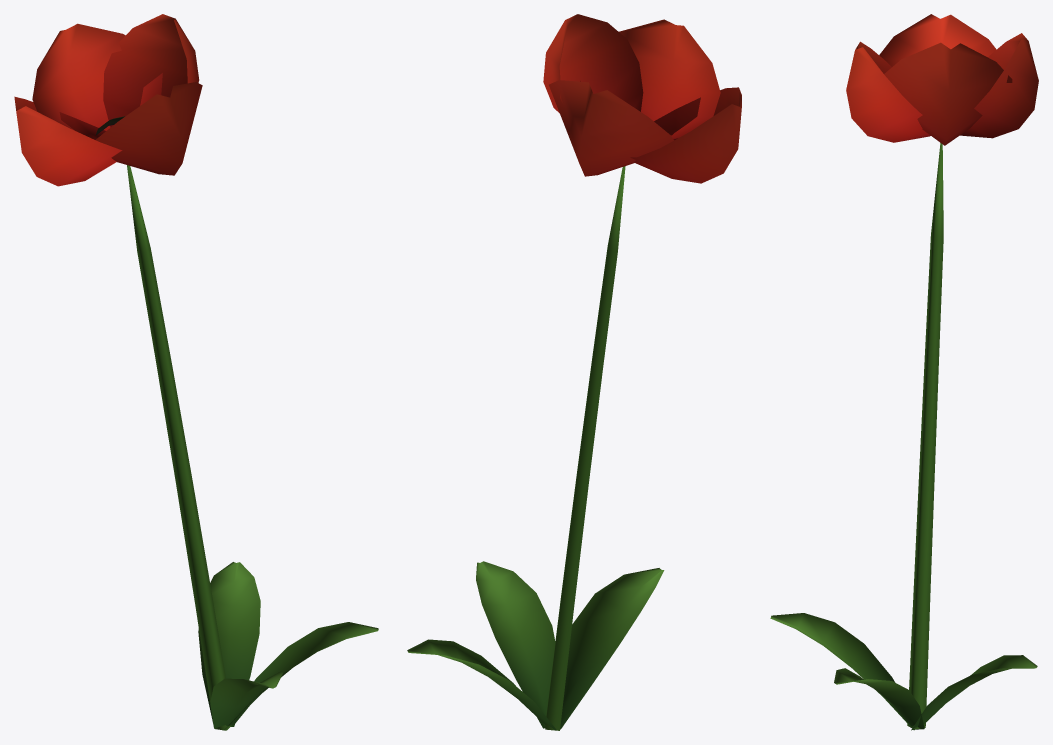
File: flower-poppy.glb
The picture shows the model from 3 angles, left to right: view 1: azimuth 30°, elevation 25°; view 2: azimuth 150°, elevation 25°; view 3: azimuth 270°, elevation 25°; orthographic projection. The views are drawn at different scales.
Parts seen in each view (by area): view 1: Flower_Poppy; view 2: Flower_Poppy; view 3: Flower_Poppy.
Boxes of the visible parts, x1=… form: Flower_Poppy: x1=14, y1=14, x2=378, y2=730; Flower_Poppy: x1=407, y1=14, x2=741, y2=730; Flower_Poppy: x1=770, y1=14, x2=1038, y2=730.
Size of the model in its own units: 0.198 by 0.4335 by 0.1579.
